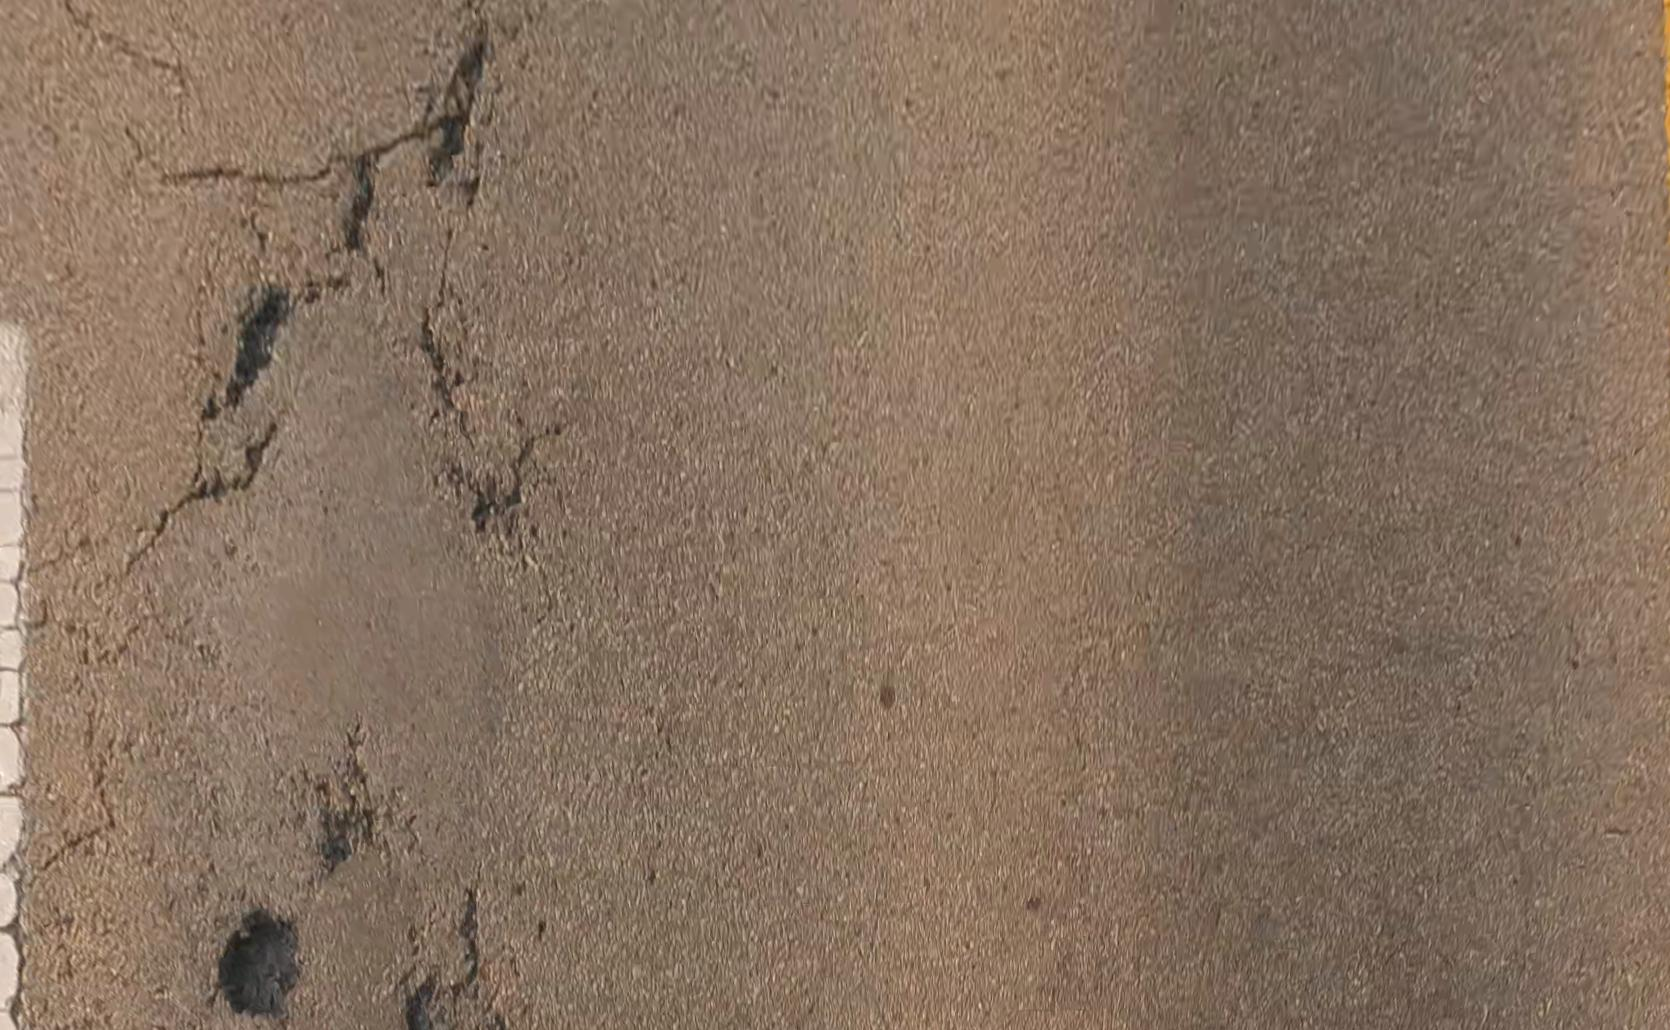pothole: (211, 913, 303, 1024), (420, 47, 485, 185), (217, 290, 280, 407), (334, 152, 383, 251), (314, 807, 376, 868), (396, 973, 458, 1028), (458, 486, 519, 537)
